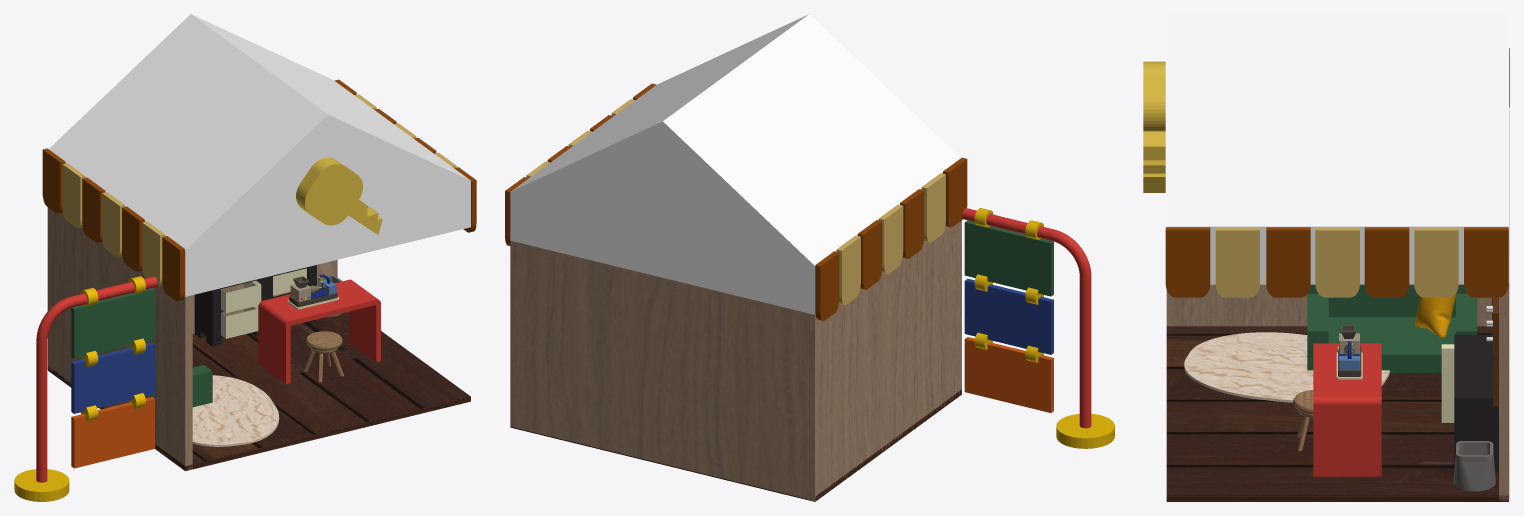
Rendered from keykiki.glb.
The picture shows the model from 3 angles, left to right: view 1: azimuth 30°, elevation 25°; view 2: azimuth 150°, elevation 25°; view 3: azimuth 270°, elevation 25°; orthographic projection. The views are drawn at different scales.
Parts seen in each view (by area): view 1: Cube.002, Cube, Cube.003, โต๊ะ, Cube.025, ป้าย1, ป้าย3, ป้าย2, big key, ลิ้นชัก.001, เสา, big key.001 (+16 smaller); view 2: Cube.002, Cube.001, Cube.003, ป้าย1, ป้าย3, ป้าย2, เสา, ฐานเสา, Cube.024, Cube, Cube.019, Cube.023 (+6 smaller); view 3: Cube.002, Cube, โซฟา, โต๊ะ, Cube.025, Cube.003, ลิ้นชัก.002, Cube.011, Cube.015, Cube.012, Cube.014, Cube.017 (+10 smaller).
Part boxes in pixels (left/top/right/bottom): Cube.002: left=49, top=14, right=470, bottom=296; Cube: left=48, top=311, right=470, bottom=471; Cube.003: left=49, top=210, right=192, bottom=470; โต๊ะ: left=258, top=279, right=380, bottom=383; Cube.025: left=192, top=375, right=279, bottom=446; ป้าย1: left=71, top=288, right=154, bottom=359; ป้าย3: left=71, top=397, right=154, bottom=468; ป้าย2: left=71, top=342, right=154, bottom=413; big key: left=296, top=157, right=382, bottom=234; ลิ้นชัก.001: left=221, top=280, right=261, bottom=338; เสา: left=36, top=341, right=47, bottom=482; big key.001: left=308, top=164, right=373, bottom=222; Cube.002: left=510, top=14, right=960, bottom=314; Cube.001: left=510, top=240, right=819, bottom=500; Cube.003: left=807, top=220, right=961, bottom=500; ป้าย1: left=964, top=220, right=1053, bottom=296; ป้าย3: left=964, top=337, right=1053, bottom=412; ป้าย2: left=964, top=278, right=1053, bottom=354; เสา: left=1079, top=277, right=1091, bottom=428; ฐานเสา: left=1056, top=414, right=1114, bottom=448; Cube.024: left=815, top=251, right=839, bottom=320; Cube: left=510, top=389, right=961, bottom=501; Cube.019: left=921, top=173, right=945, bottom=242; Cube.023: left=836, top=235, right=860, bottom=305; Cube.002: left=1166, top=14, right=1508, bottom=284; Cube: left=1166, top=326, right=1508, bottom=501; โซฟา: left=1307, top=284, right=1477, bottom=372; โต๊ะ: left=1313, top=343, right=1381, bottom=476; Cube.025: left=1184, top=332, right=1389, bottom=402; Cube.003: left=1166, top=284, right=1491, bottom=326; ลิ้นชัก.002: left=1454, top=366, right=1498, bottom=472; Cube.011: left=1165, top=227, right=1210, bottom=297; Cube.015: left=1364, top=227, right=1409, bottom=297; Cube.012: left=1215, top=227, right=1259, bottom=297; Cube.014: left=1315, top=227, right=1359, bottom=297; Cube.017: left=1464, top=227, right=1508, bottom=297.
Size of the model in its own units: 18.67 by 12.92 by 10.7.
68 materials, 14 textured.
